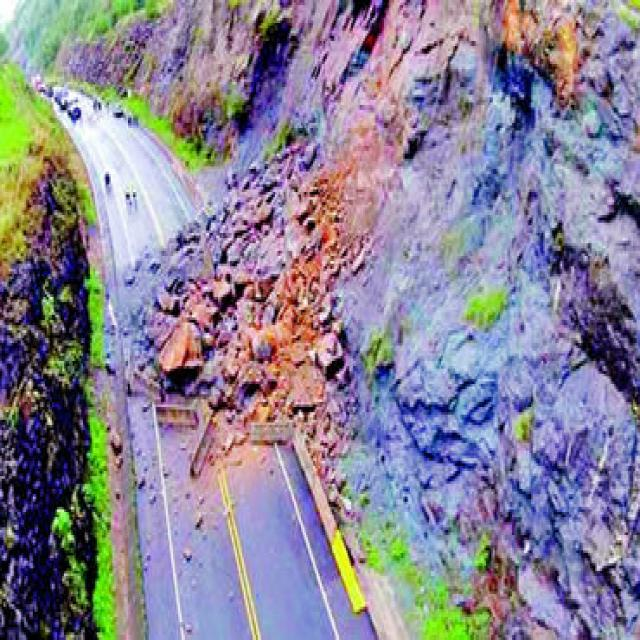landSliding: (107, 211, 369, 546)
